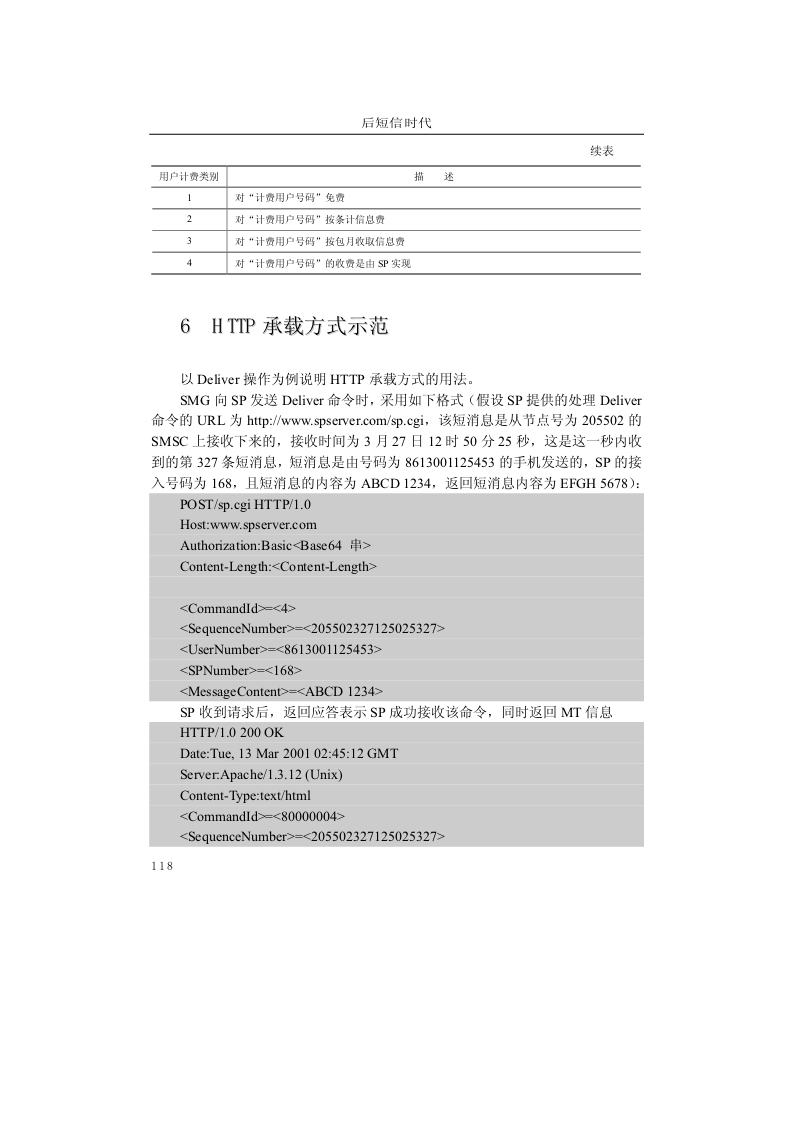table: (149, 134, 643, 275)
